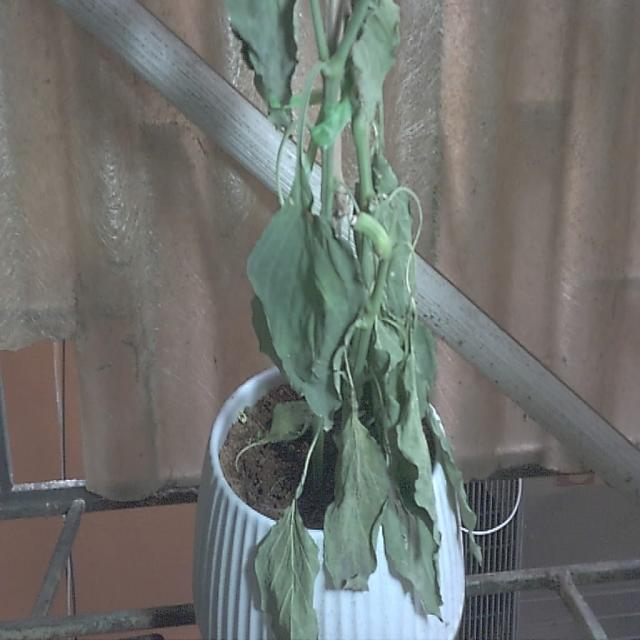Leaf: (246, 186, 362, 421), (324, 424, 387, 597), (254, 505, 320, 640)
